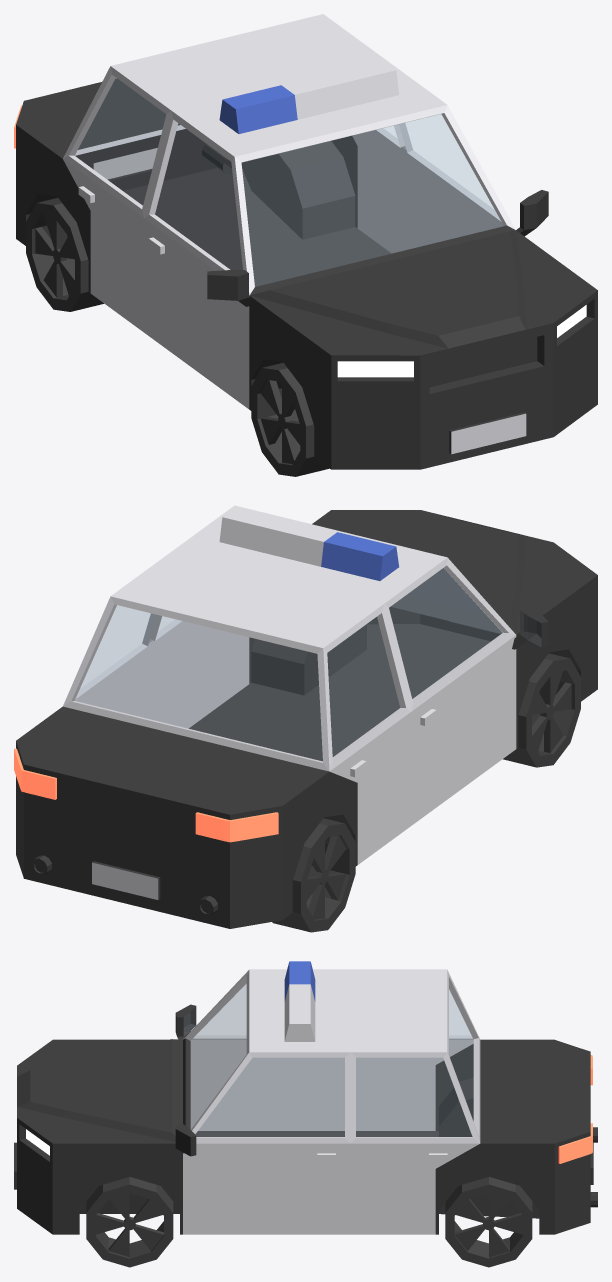
The model's file is police_sedan.glb.
The picture shows the model from 3 angles, top to bottom: view 1: azimuth 30°, elevation 25°; view 2: azimuth 150°, elevation 25°; view 3: azimuth 270°, elevation 25°; orthographic projection. The views are drawn at different scales.
Visible parts, largest first — view 1: Police Sedan, Police Sedan wheel front right, Police Sedan wheel rear right; view 2: Police Sedan, Police Sedan wheel rear right, Police Sedan wheel front right; view 3: Police Sedan, Police Sedan wheel front left, Police Sedan wheel rear left.
Boxes of the visible parts, left/top/right/bottom form: Police Sedan: left=14, top=14, right=597, bottom=469; Police Sedan wheel front right: left=251, top=362, right=329, bottom=476; Police Sedan wheel rear right: left=26, top=198, right=103, bottom=311; Police Sedan: left=14, top=505, right=597, bottom=928; Police Sedan wheel rear right: left=272, top=818, right=355, bottom=932; Police Sedan wheel front right: left=503, top=653, right=580, bottom=767; Police Sedan: left=14, top=961, right=597, bottom=1234; Police Sedan wheel front left: left=86, top=1177, right=173, bottom=1267; Police Sedan wheel rear left: left=445, top=1177, right=532, bottom=1267.
Bounding box in the file's own units: 2.81 × 2.19 × 5.23.
